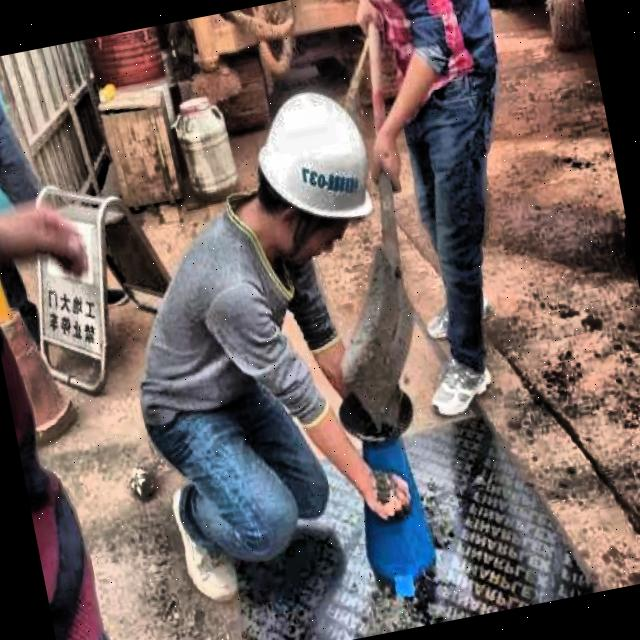helmet: (230, 69, 390, 284)
